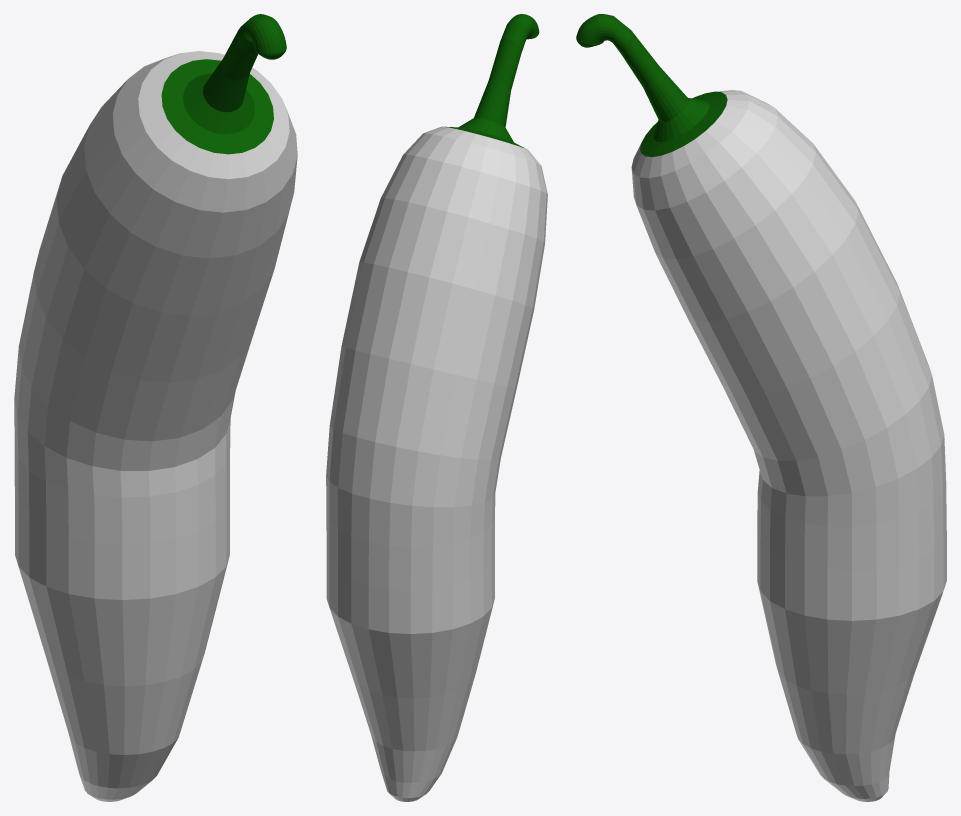
Rendered from Sweet_Pepper LP.fbx.
The picture shows the model from 3 angles, left to right: view 1: azimuth 30°, elevation 25°; view 2: azimuth 150°, elevation 25°; view 3: azimuth 270°, elevation 25°; orthographic projection. The views are drawn at different scales.
Visible parts, largest first — view 1: LPSweet pepper; view 2: LPSweet pepper; view 3: LPSweet pepper.
Part boxes in pixels (x1,y1,x2,y2): LPSweet pepper: (14,14,297,801); LPSweet pepper: (326,14,547,801); LPSweet pepper: (576,14,946,801).
Size of the model in its own units: 167 by 705 by 302.
